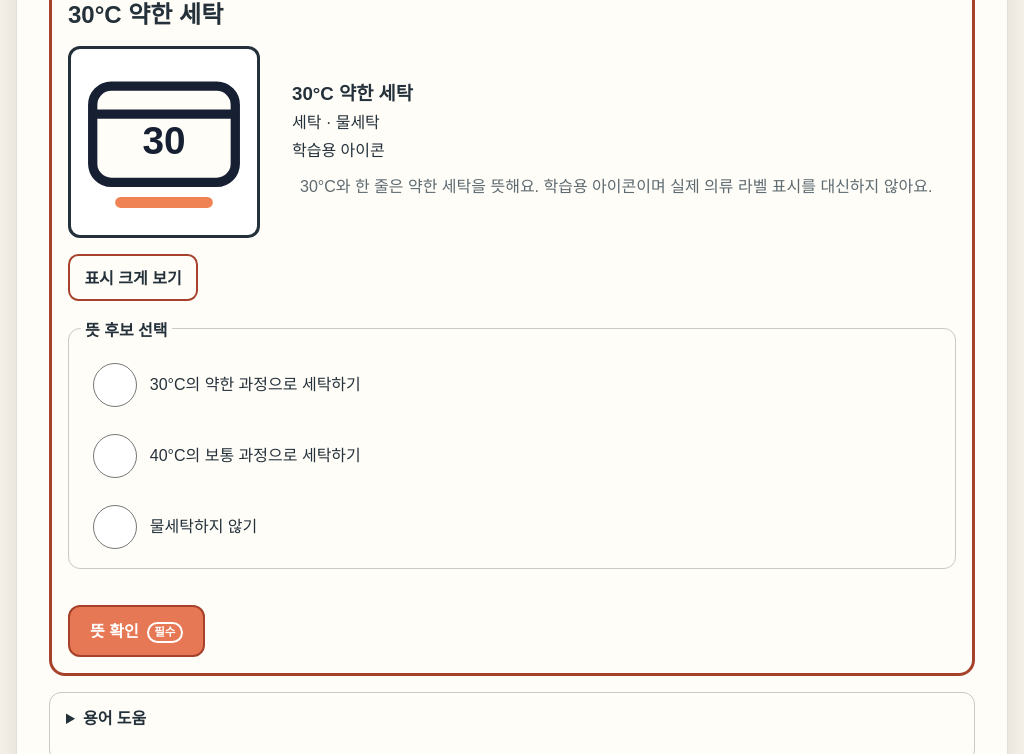
Test: Task 8 표시 확대경과 접근 가능한 뜻 해석 › 모든 고유 표시를 맞히기 전에는 계획으로 넘어가지 않고, 맞히면 계획으로 넘어간다
The width and height of the screenshot is (1024, 754).
(page scrolled)
Click the radio button labelled "30°C의 약한 과정으로 세탁하기": (115, 385) [93,363,137,407]
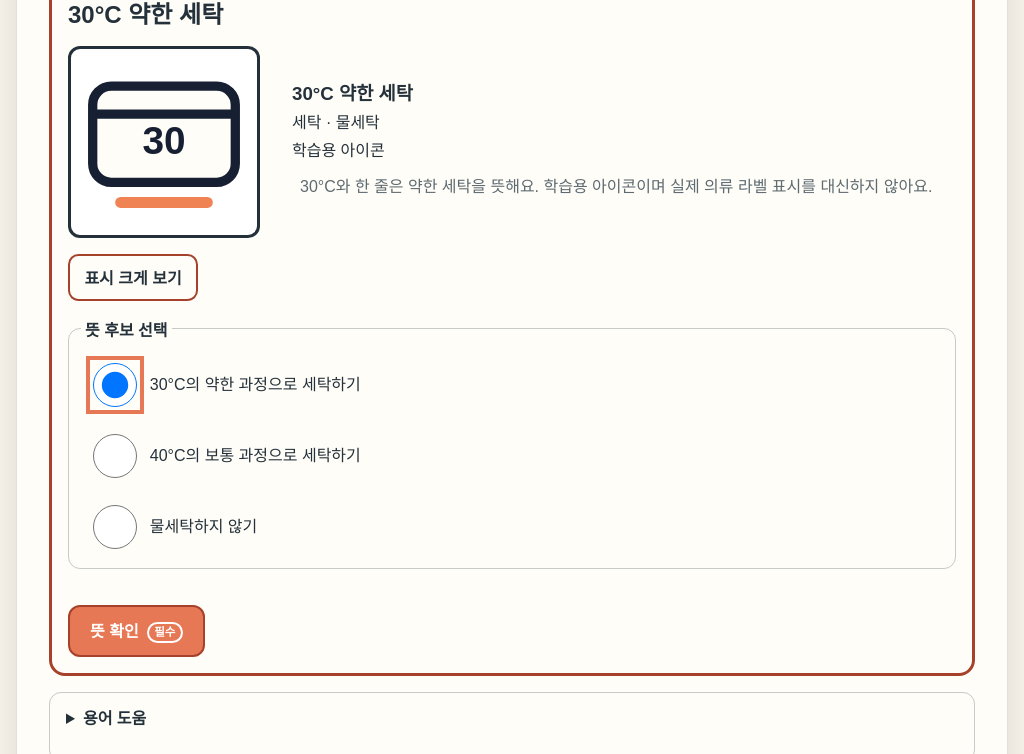
Click the button "뜻 확인": (136, 631) [68,605,205,657]
(page scrolled)
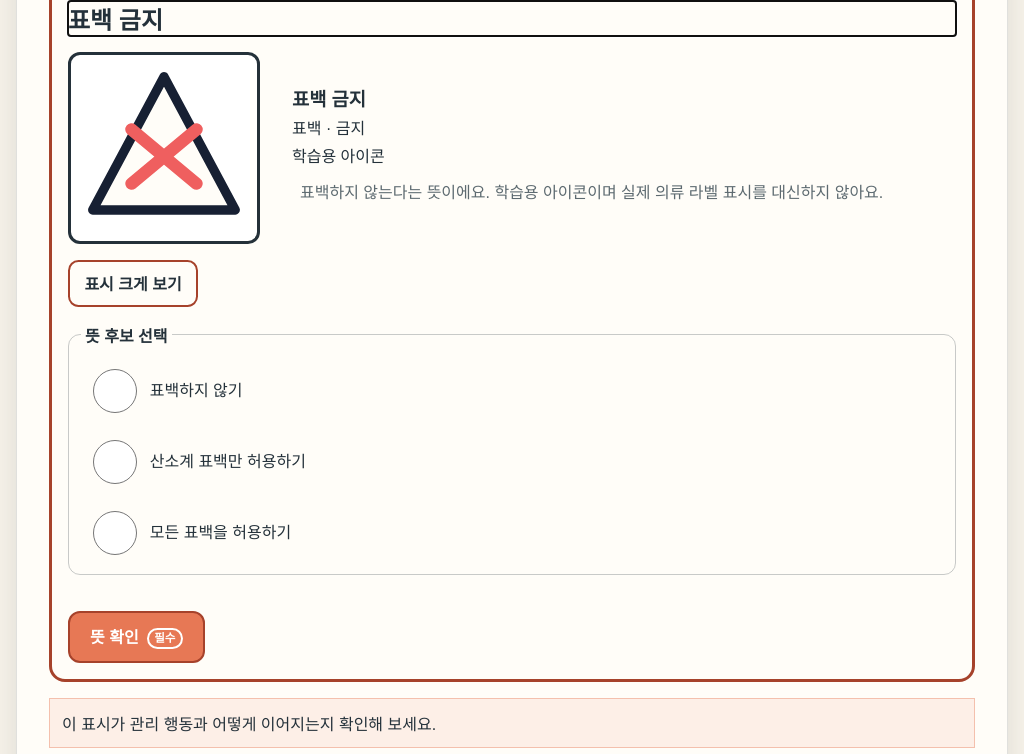
Expected: the number of buttons "뜻 확인" is 1, [68,611,205,663]
Click the radio button labelled "표백하지 않기": (115, 391) [93,369,137,413]
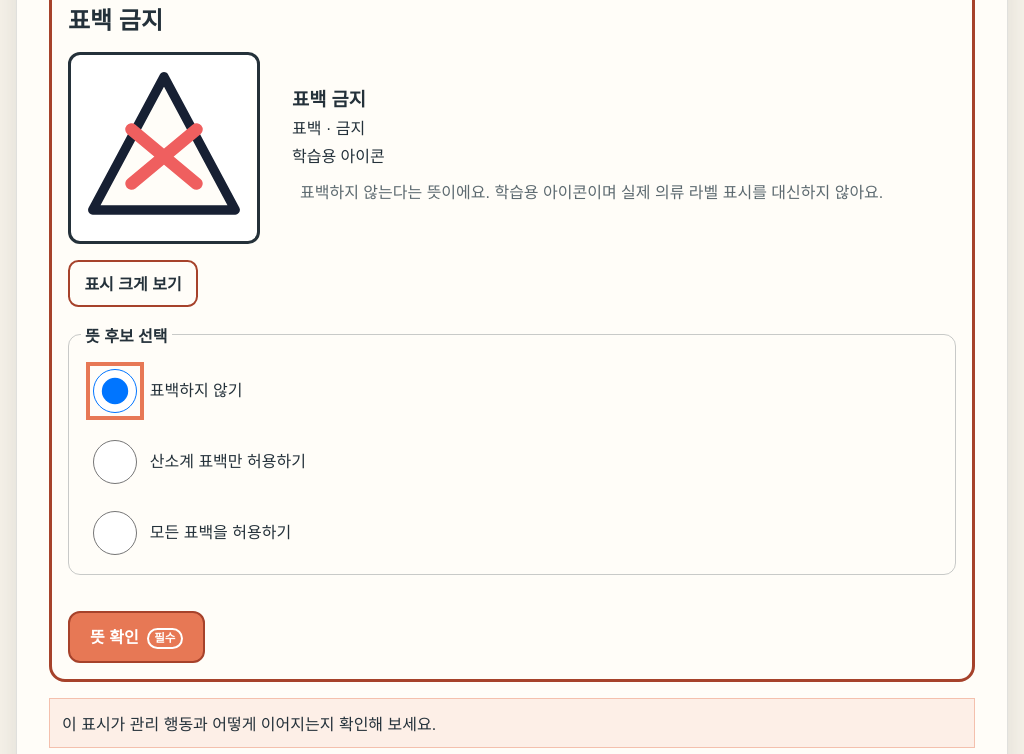
Click the button "뜻 확인": (136, 637) [68,611,205,663]
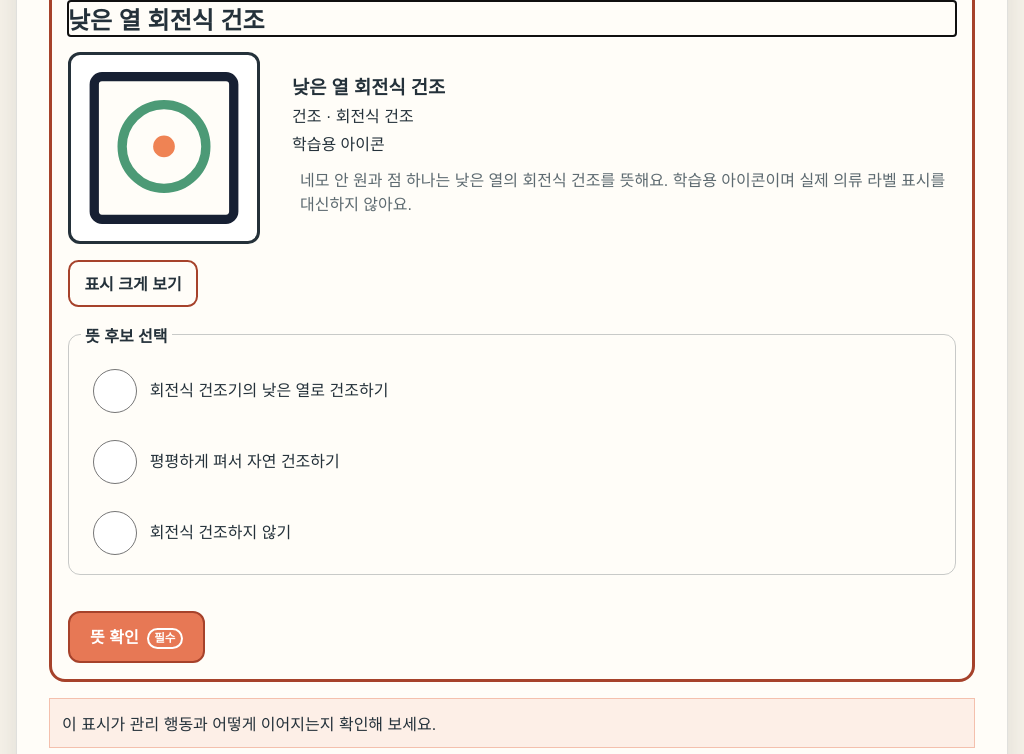
Expected: the number of buttons "뜻 확인" is 1, [68,611,205,663]
Click the radio button labelled "회전식 건조기의 낮은 열로 건조하기": (115, 391) [93,369,137,413]
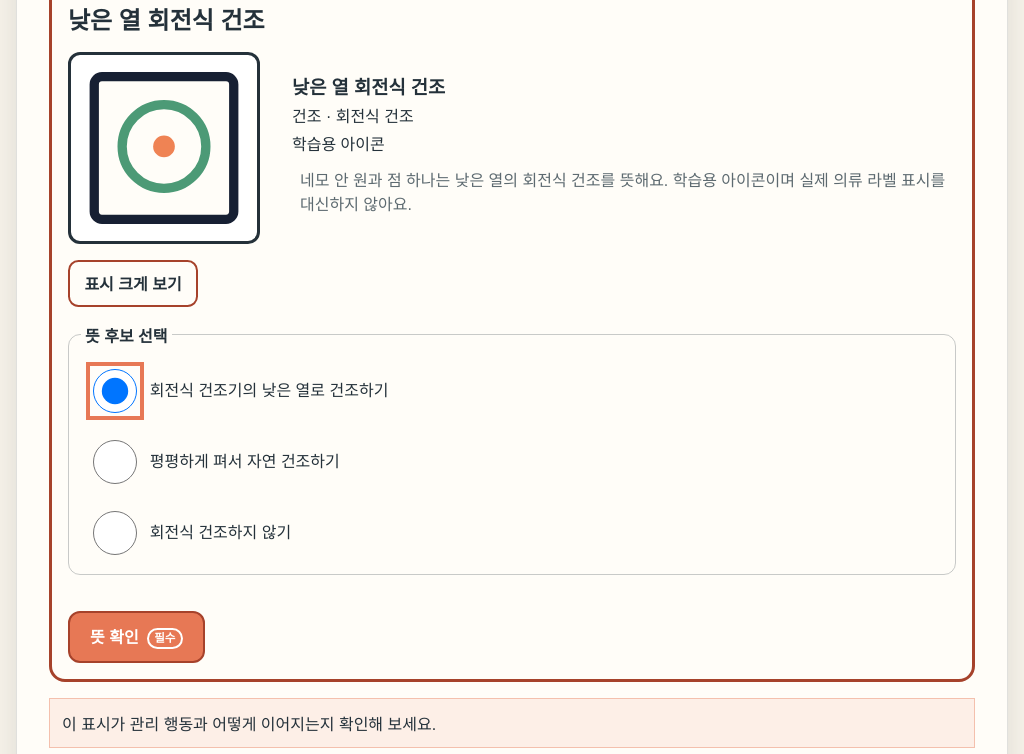
Click the button "뜻 확인": (136, 637) [68,611,205,663]
(page scrolled)
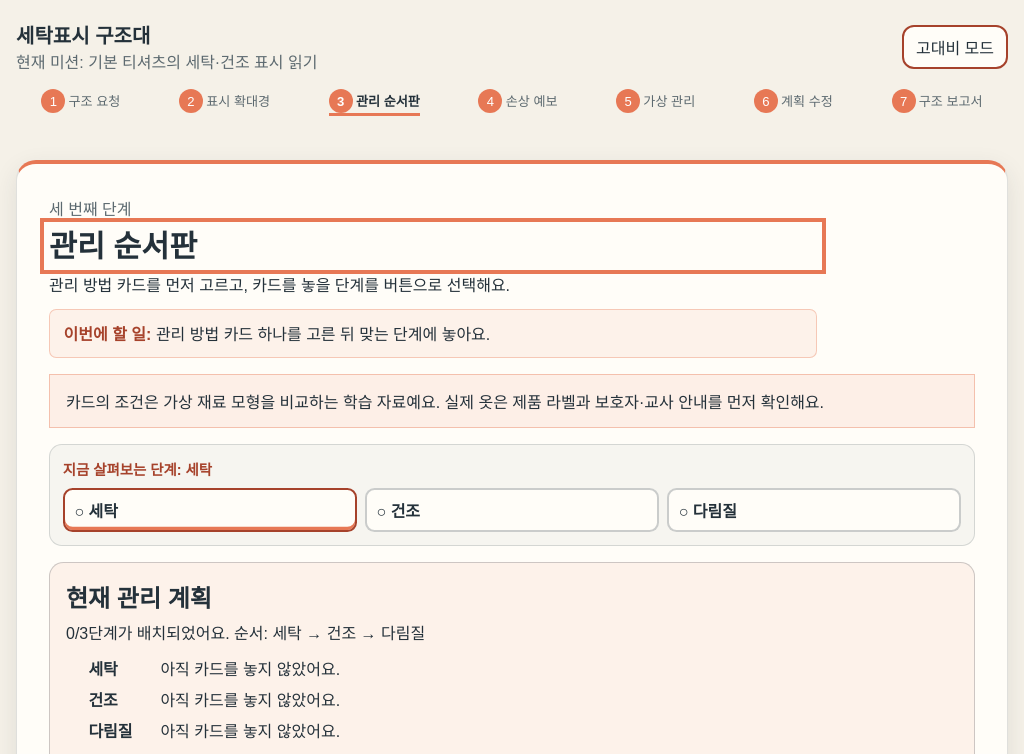
Result: the heading "관리 순서판" is shown at [49,229,197,263]
